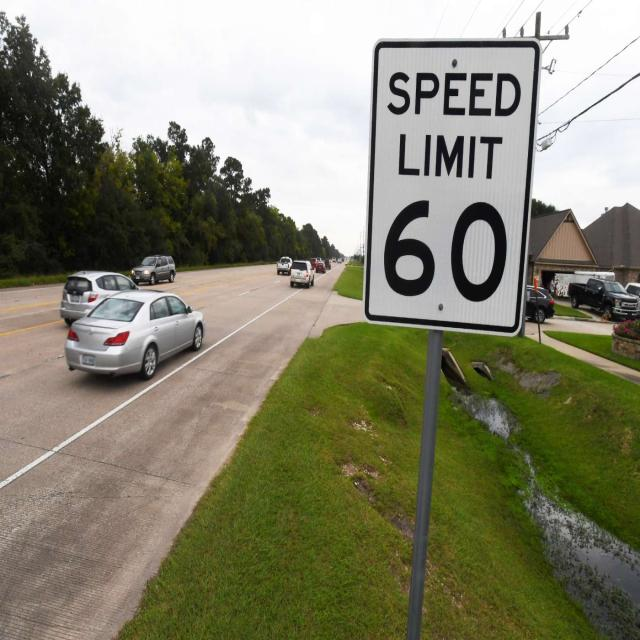speedLimit60: (380, 56, 527, 309)
